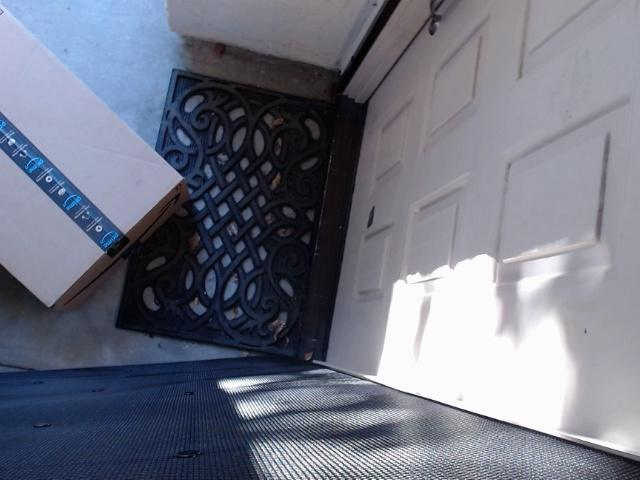box: (0, 0, 212, 308)
